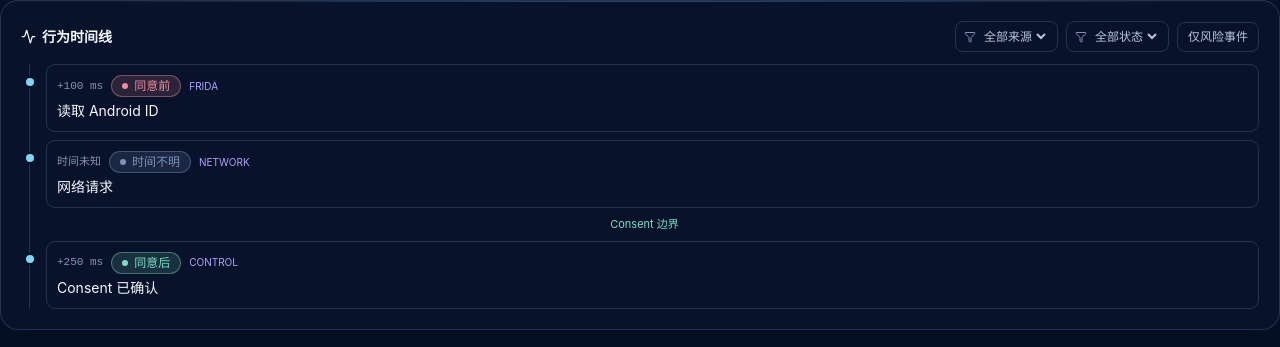
BehaviorTimeline › renders consent boundary states and filters
Expected: the text "Consent 边界" is shown, [610,216,679,232]
Step 1. Select "时间不明" in the dropdown named "Consent 筛选" → (1126, 36), box [1091,22,1160,51]
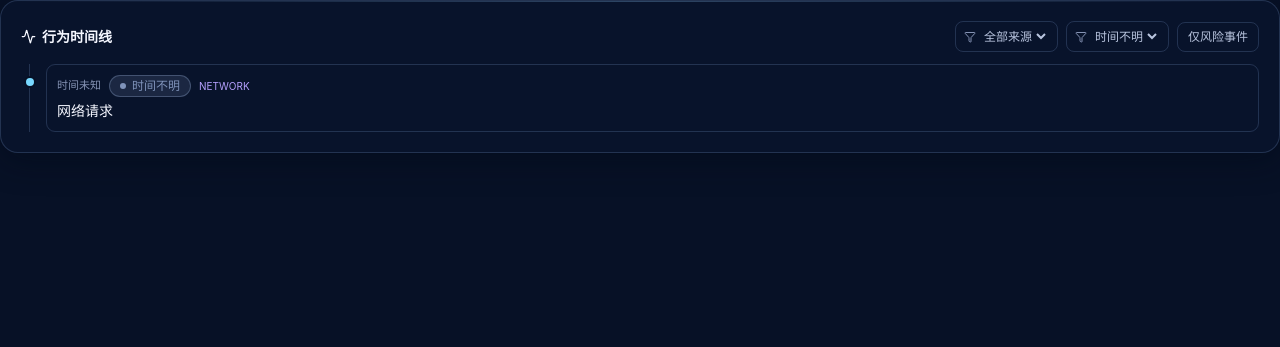
Expected: the text "网络请求" is shown, [57,102,113,119]
Expected: the button "读取 Android ID" is gone
